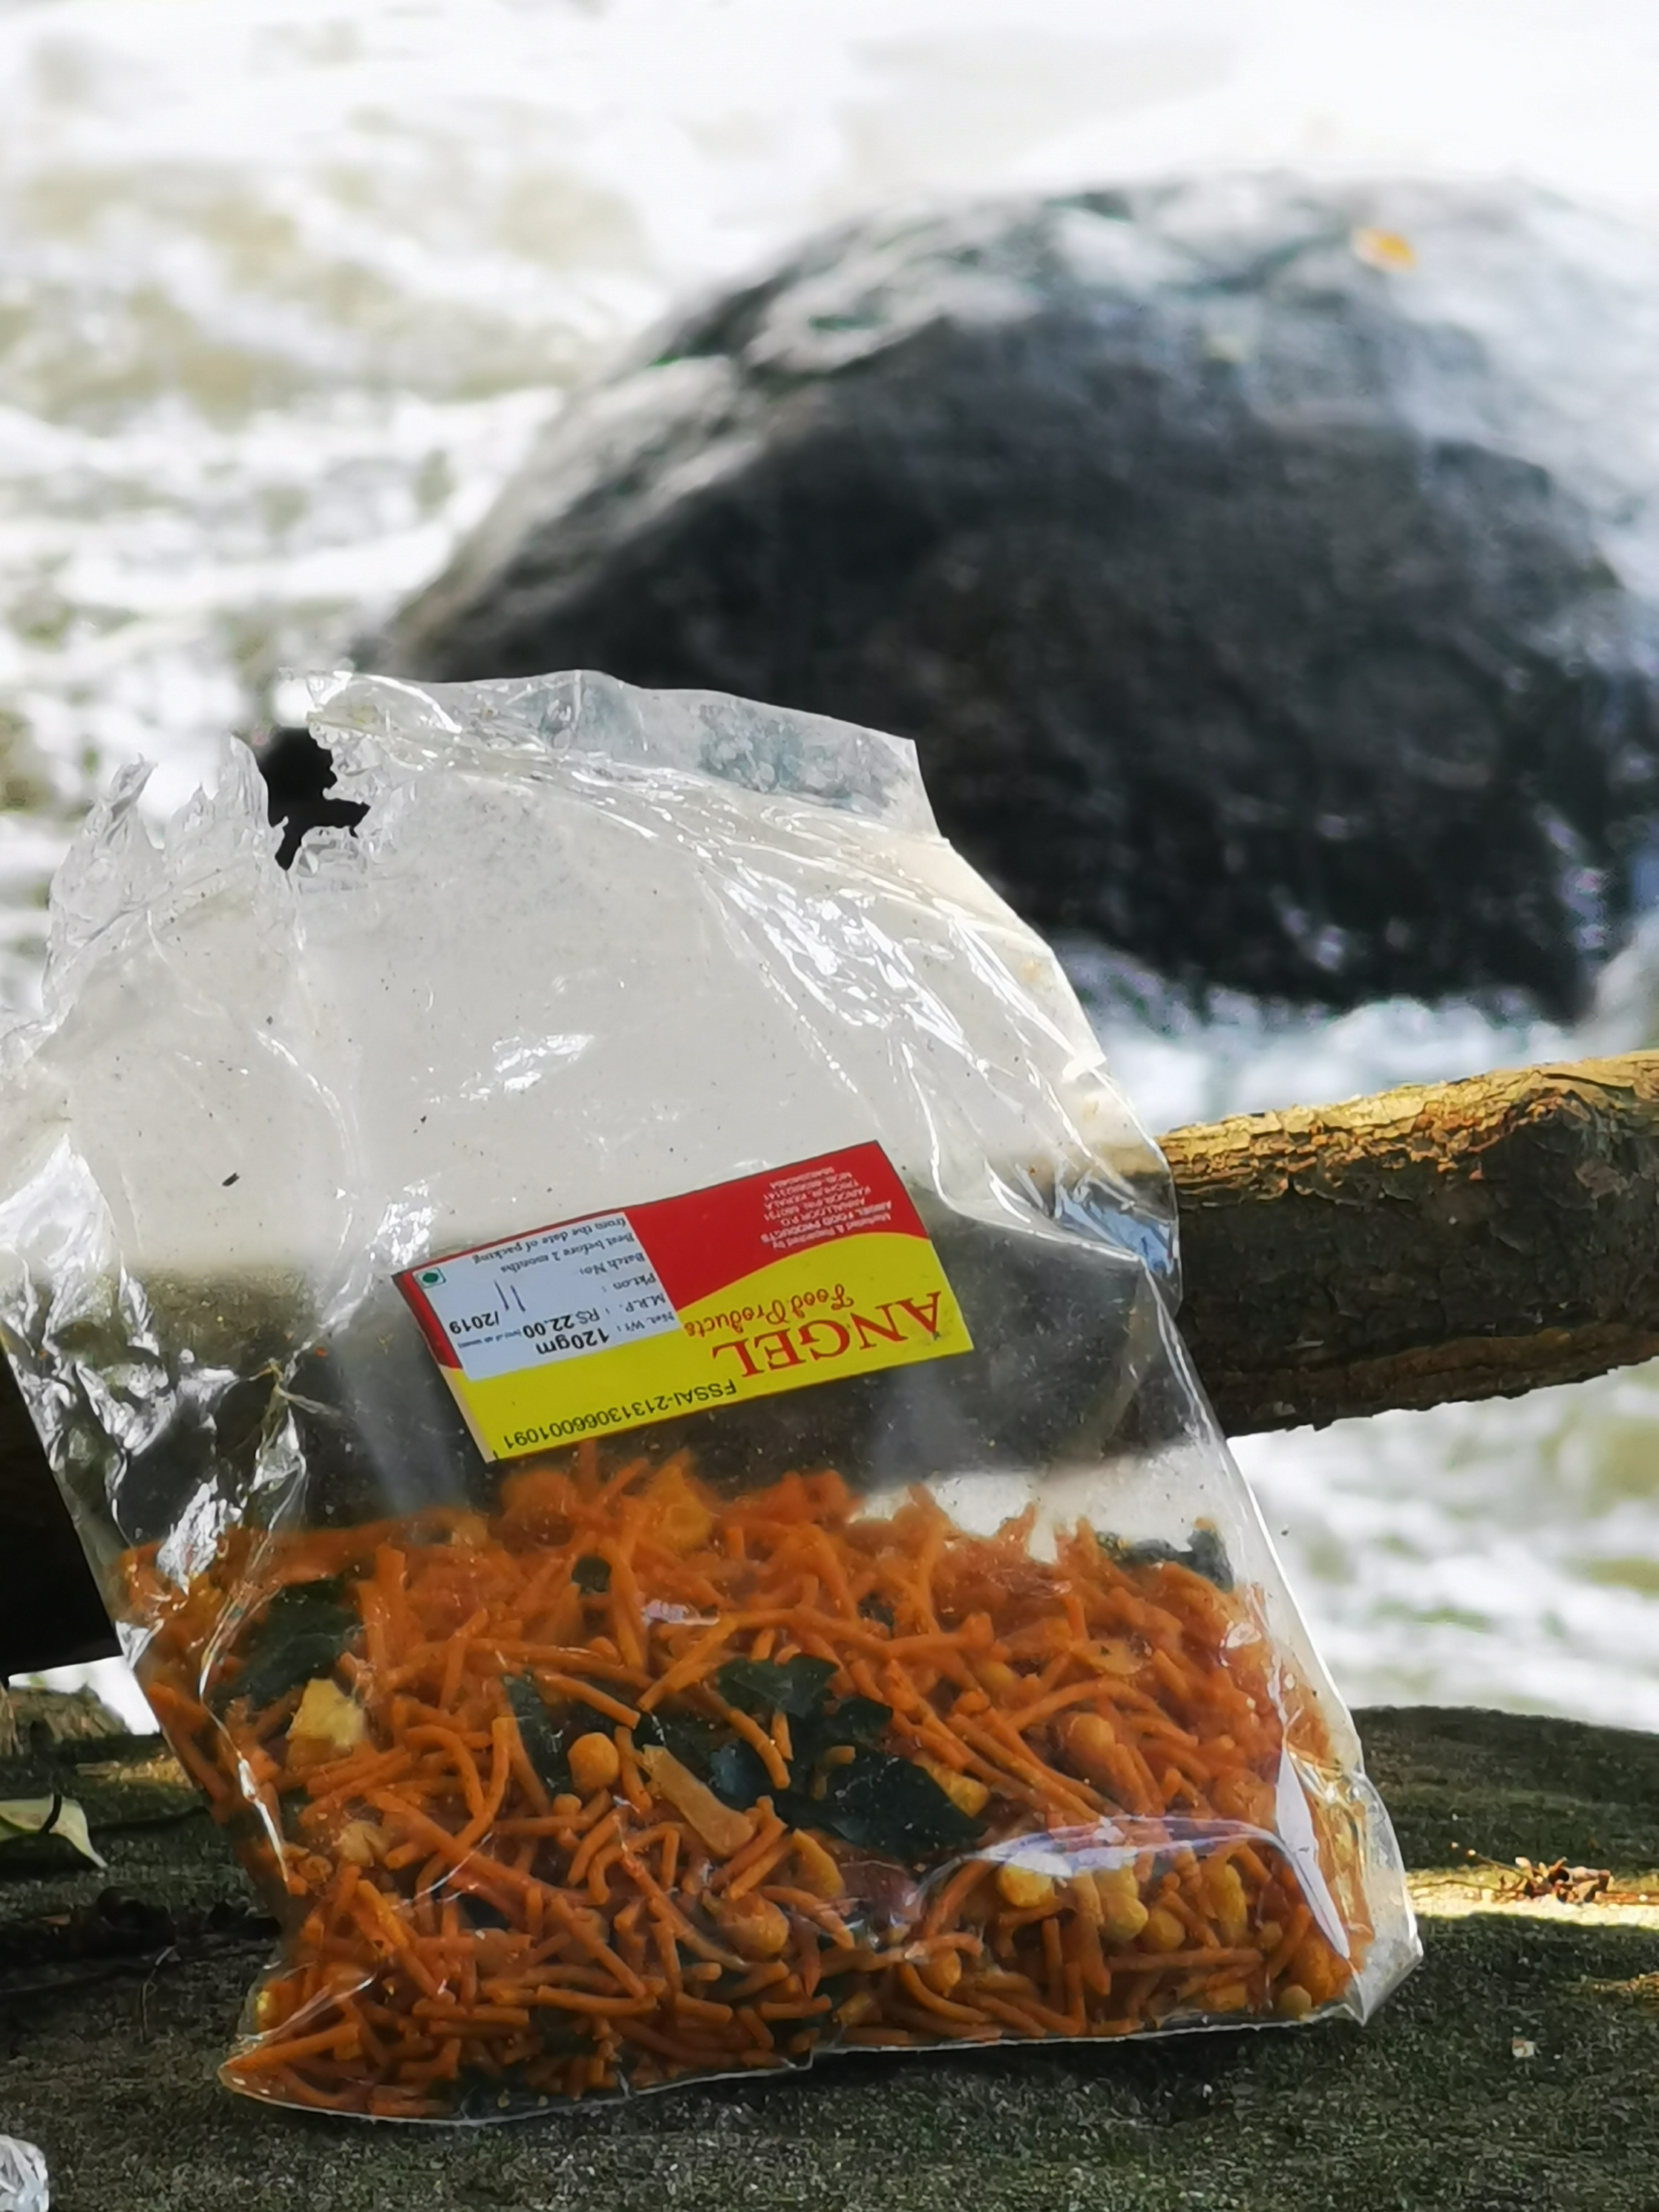food: (124, 1446, 1429, 2135)
